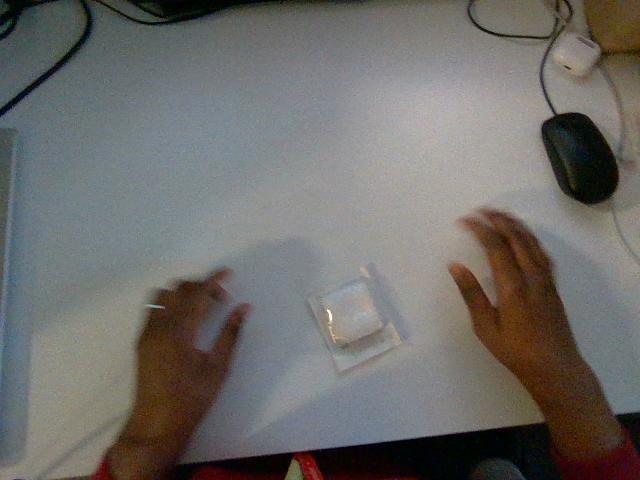gauze: (308, 266, 400, 371)
